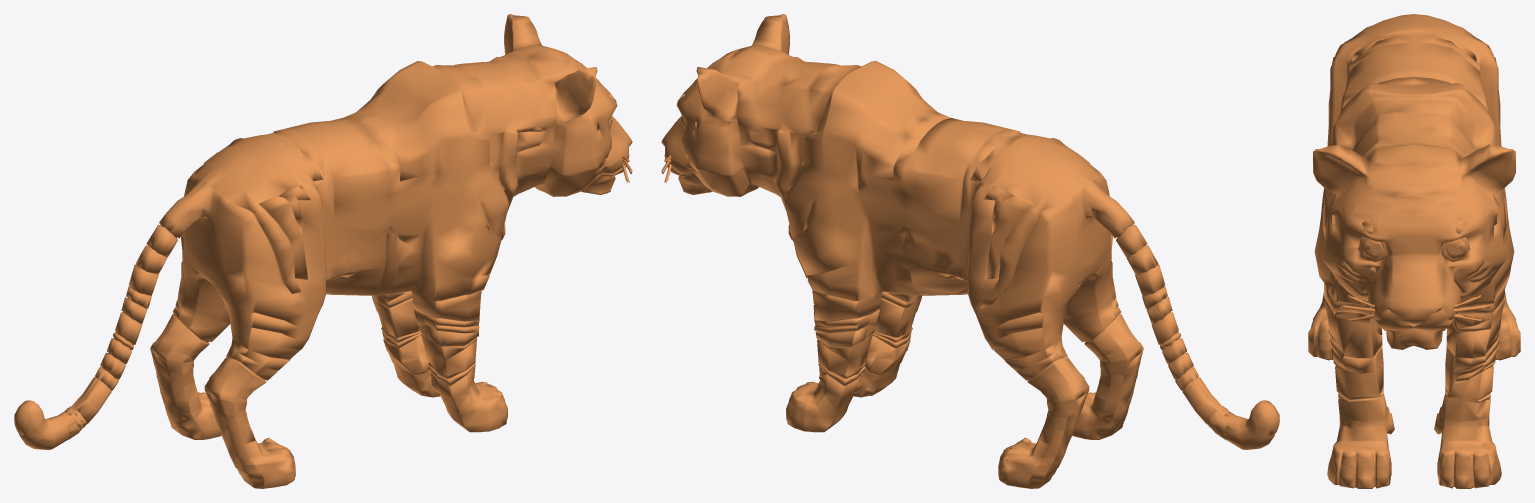
The model's file is tiger-flat.glb.
The picture shows the model from 3 angles, left to right: view 1: azimuth 30°, elevation 25°; view 2: azimuth 150°, elevation 25°; view 3: azimuth 270°, elevation 25°; orthographic projection. The views are drawn at different scales.
Visible parts, largest first — view 1: tripo_node_aba2c5c0-42bc-4d10-b140-2992e73ae0e9; view 2: tripo_node_aba2c5c0-42bc-4d10-b140-2992e73ae0e9; view 3: tripo_node_aba2c5c0-42bc-4d10-b140-2992e73ae0e9.
Boxes of the visible parts, left/top/right/bottom form: tripo_node_aba2c5c0-42bc-4d10-b140-2992e73ae0e9: left=14, top=14, right=632, bottom=488; tripo_node_aba2c5c0-42bc-4d10-b140-2992e73ae0e9: left=661, top=14, right=1279, bottom=488; tripo_node_aba2c5c0-42bc-4d10-b140-2992e73ae0e9: left=1308, top=14, right=1520, bottom=488.
Size of the model in its own units: 1.04 by 0.55 by 0.276.
